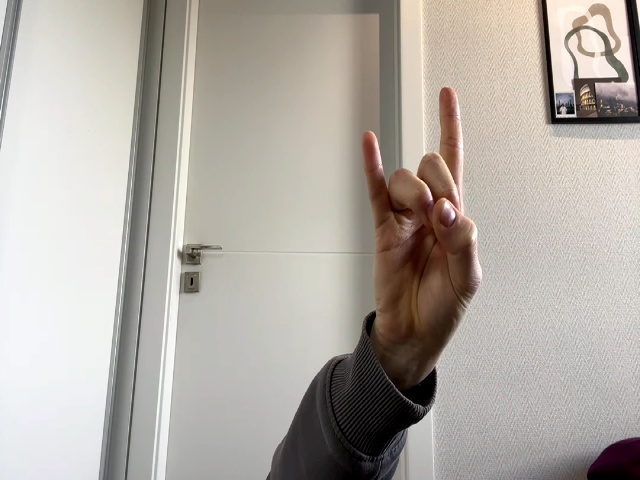Y: (362, 87, 482, 347)
